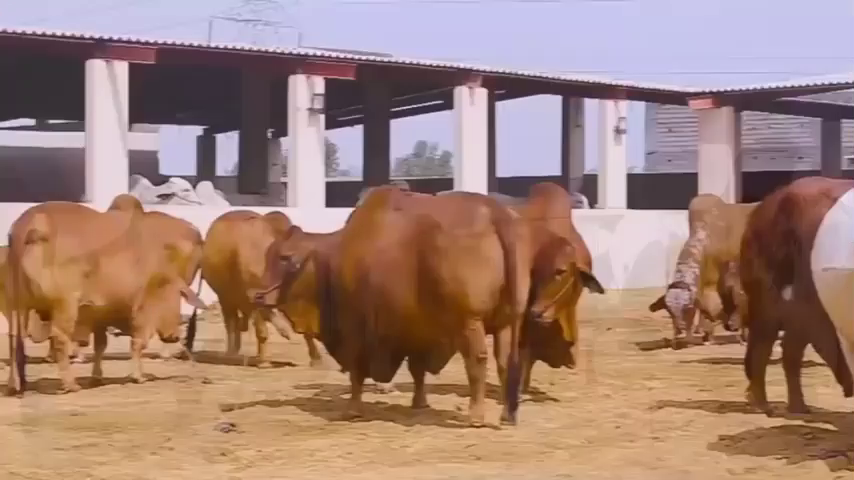bo: (242, 183, 534, 437), (6, 188, 194, 387), (724, 172, 854, 433), (495, 162, 596, 391), (202, 203, 314, 367), (651, 183, 745, 353)
